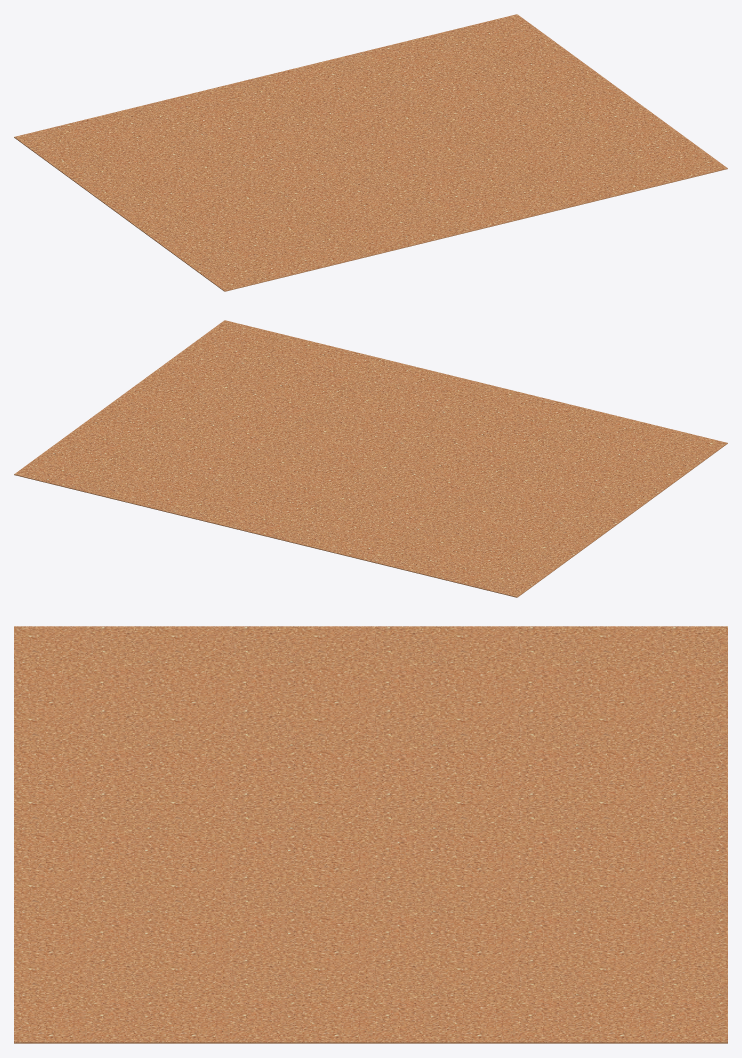
Rendered from stage_03.fbx.
3 renders of one model, top to bottom at view 1: azimuth 30°, elevation 25°; view 2: azimuth 150°, elevation 25°; view 3: azimuth 270°, elevation 25°, orthographic. The views are drawn at different scales.
Visible parts, largest first — view 1: stage_base_sand; view 2: stage_base_sand; view 3: stage_base_sand.
Part boxes in pixels (x1,y1,x2,y2): stage_base_sand: (14,14,727,291); stage_base_sand: (14,320,727,597); stage_base_sand: (14,626,727,1043).
Size of the model in its own units: 2632 by 1909 by 4.29.
Materials: 1 (1 with a texture image).
